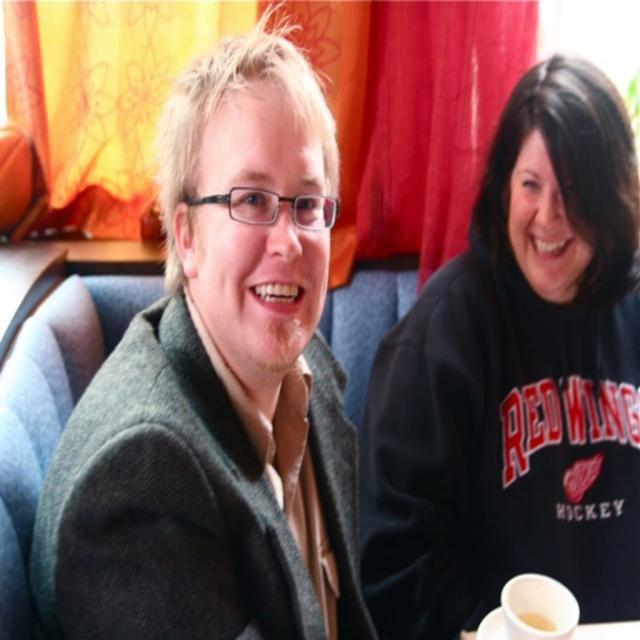Coffee: (483, 568, 588, 635)
Tea: (517, 609, 555, 634)
